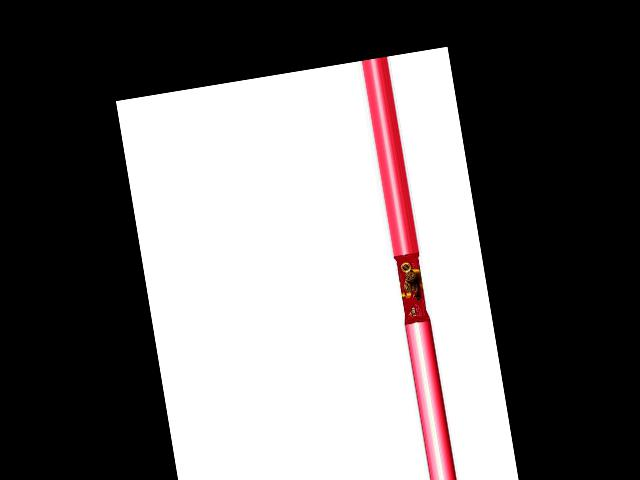chocolate: (394, 253, 432, 325)
